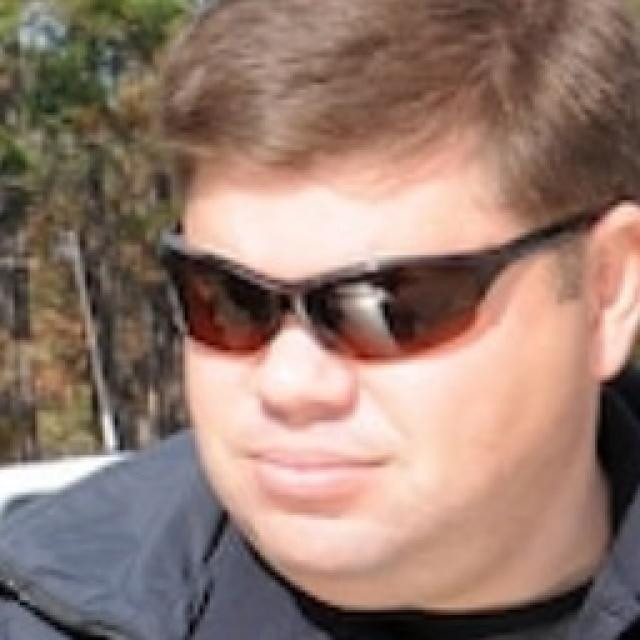glasses: (150, 193, 562, 368)
